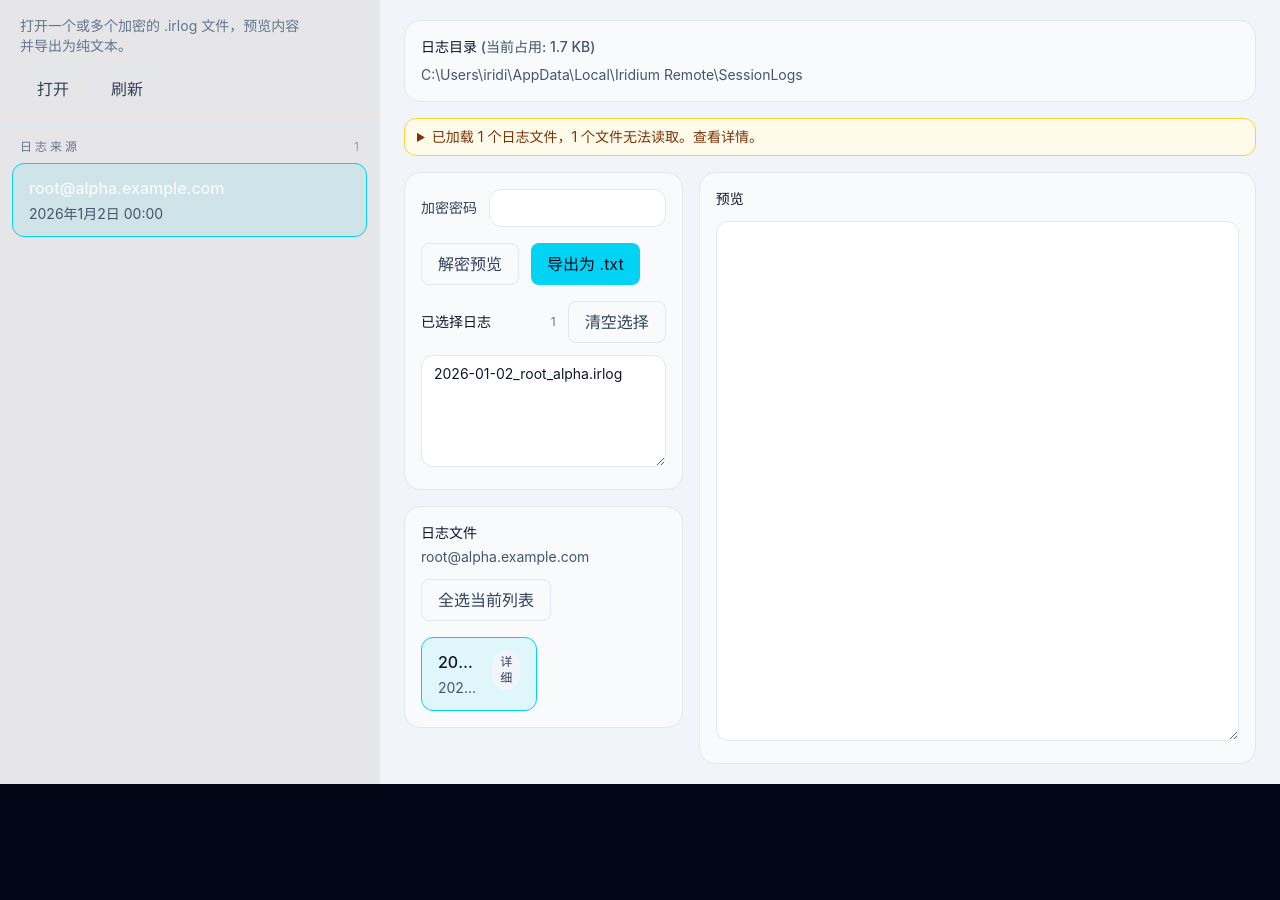
SessionLogsWorkspace › shows readable logs and warning details in zh-CN
Check: the text "2026-01-02_root_alpha.irlog" is shown, box [438,650,480,674]
Click the heading "已加载 1 个日志文件，1 个文件无法读取。查看详情。" at (597, 136), box [432,128,763,145]
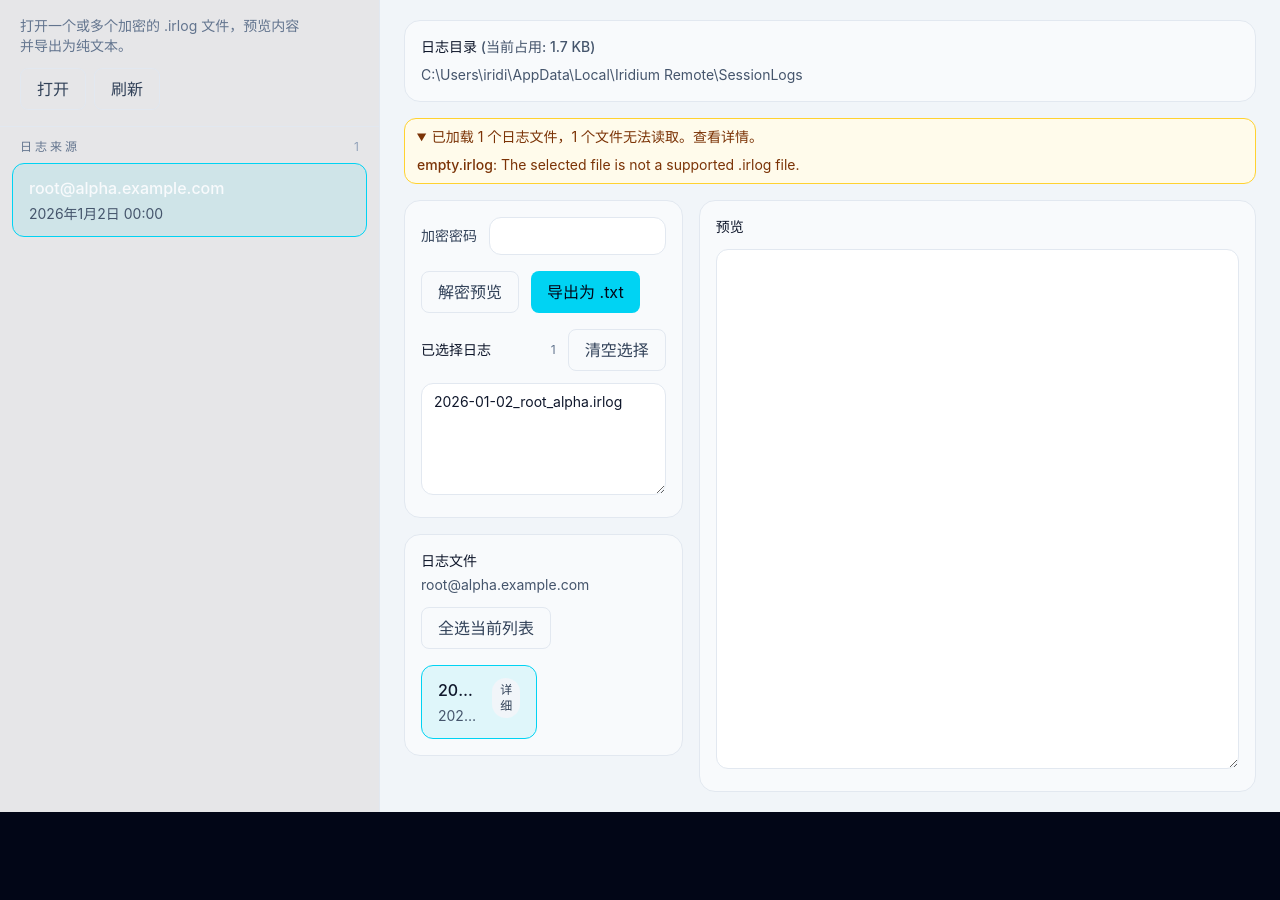
Check: the text "empty.irlog" is shown, box [417,156,493,173]
Check: the list item "The selected file is not a supported .irlog file." is shown, box [501,156,800,173]
